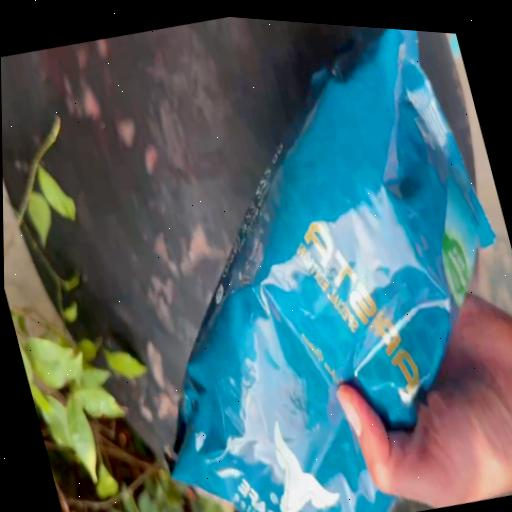cafe_hat: (173, 28, 494, 512)
